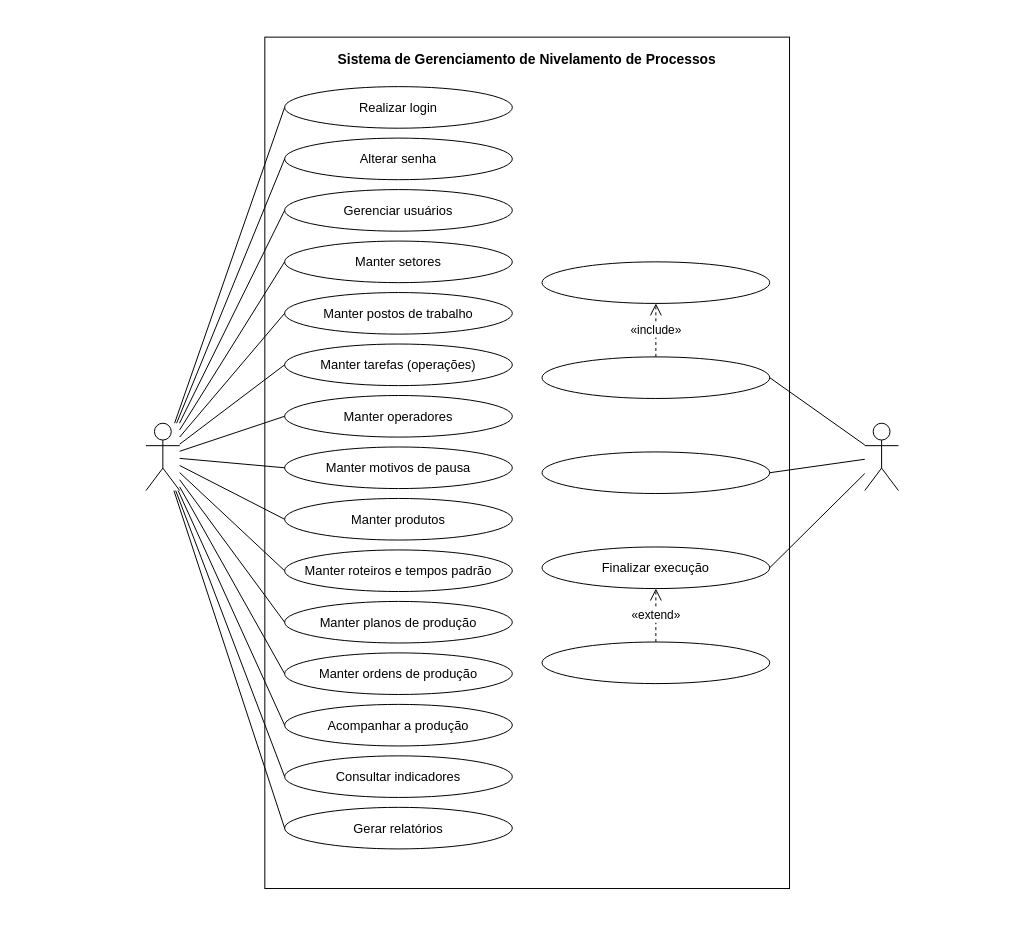
Image size: 1014x925. Some labels were removed from this diagram. The shapes that lost their labels are listed below. From the top down, each one's centre as x and y in pixels, then its label:
point 655,282: Identificar operador e ordem
point 655,377: Iniciar execução
point 162,456: Administrador
point 655,472: Pausar e retomar execução
point 881,456: Operador
point 655,662: Registrar quantidades da baixa
